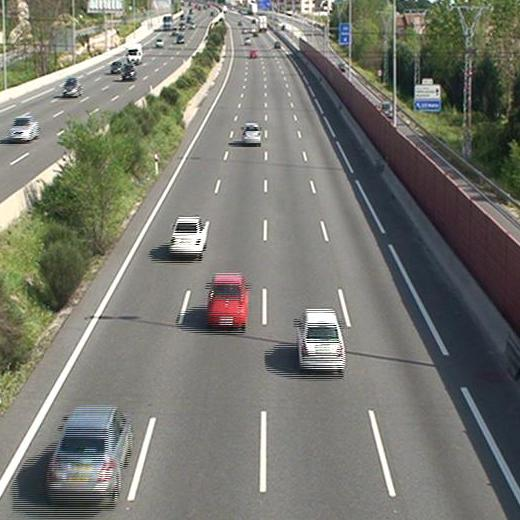car: (47, 406, 133, 499), (297, 308, 347, 369), (208, 274, 249, 326), (171, 216, 209, 253), (242, 123, 261, 145)
